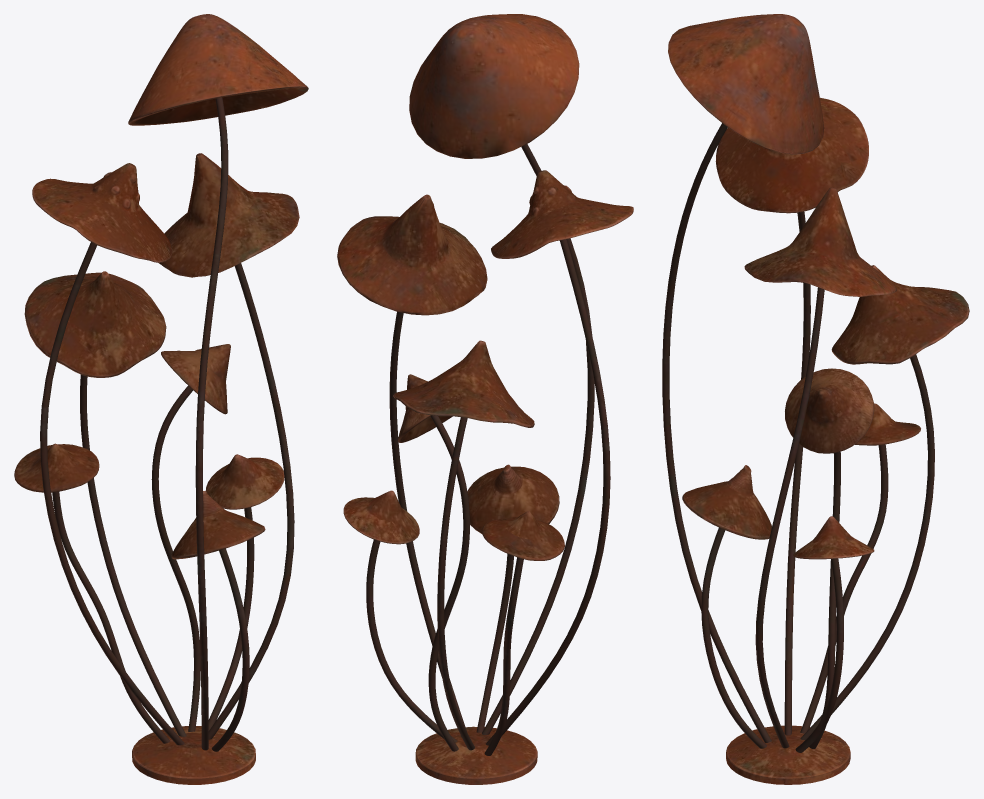
Rendered from rusty_mushroom_garden_statue_4588b925.glb.
The picture shows the model from 3 angles, left to right: view 1: azimuth 30°, elevation 25°; view 2: azimuth 150°, elevation 25°; view 3: azimuth 270°, elevation 25°; orthographic projection. The views are drawn at different scales.
Parts seen in each view (by area): view 1: rusty_mushroom_garden_statue_4588b925; view 2: rusty_mushroom_garden_statue_4588b925; view 3: rusty_mushroom_garden_statue_4588b925.
Boxes of the visible parts, x1,y1,x2,y2 form: rusty_mushroom_garden_statue_4588b925: (14,14,308,784); rusty_mushroom_garden_statue_4588b925: (337,14,633,784); rusty_mushroom_garden_statue_4588b925: (662,14,969,784).
Size of the model in its own units: 0.5932 by 1.6 by 0.5962.
Materials: 1 (1 with a texture image).
